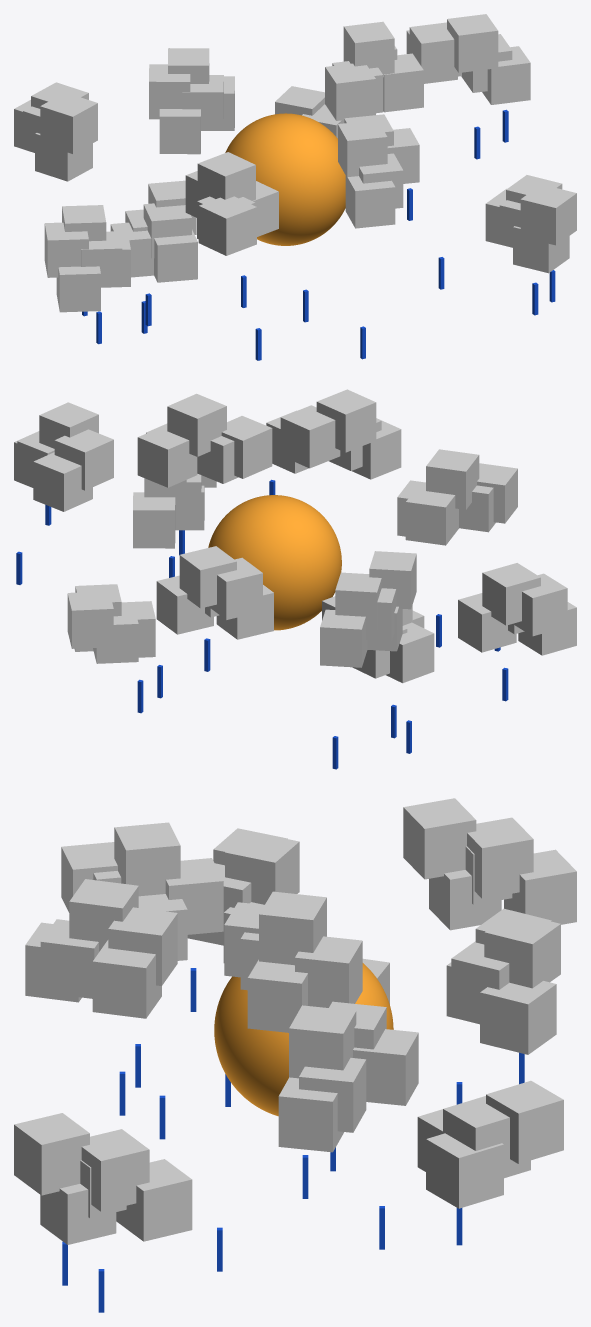
Rendered from sun_rain.glb.
3 renders of one model, top to bottom at view 1: azimuth 30°, elevation 25°; view 2: azimuth 150°, elevation 25°; view 3: azimuth 270°, elevation 25°, orthographic. The views are drawn at different scales.
Parts seen in each view (by area): view 1: Sphere, Cube.016, Cube.033, Cube.023, Cube.049, Cube.028, Cube.004, Cube.014, Cube.035, Cube.041, Cube.002; view 2: Sphere, Cube.023, Cube.028, Cube.033, Cube.049, Cube.004, Cube.035, Cube.016, Cube.002, Cube.014, Cube.041; view 3: Cube.014, Cube.035, Cube.016, Cube.033, Cube.023, Cube.002, Cube.004, Cube.028, Sphere, Cube.049.
Boxes of the visible parts, <box> form: Sphere: <box>225,113,345,245</box>; Cube.016: <box>406,14,530,104</box>; Cube.033: <box>338,114,419,228</box>; Cube.023: <box>325,21,423,120</box>; Cube.049: <box>44,205,130,312</box>; Cube.028: <box>185,152,278,255</box>; Cube.004: <box>149,48,234,154</box>; Cube.014: <box>485,175,576,273</box>; Cube.035: <box>14,82,97,181</box>; Cube.041: <box>110,180,197,282</box>; Cube.002: <box>275,86,344,138</box>; Sphere: <box>208,495,341,630</box>; Cube.023: <box>137,393,272,487</box>; Cube.028: <box>397,449,517,545</box>; Cube.033: <box>266,389,401,479</box>; Cube.049: <box>458,563,576,655</box>; Cube.004: <box>156,546,273,639</box>; Cube.035: <box>320,551,416,667</box>; Cube.016: <box>14,402,113,511</box>; Cube.002: <box>67,584,155,663</box>; Cube.014: <box>133,474,216,548</box>; Cube.041: <box>322,596,434,683</box>; Cube.014: <box>14,1113,192,1244</box>; Cube.035: <box>403,798,576,930</box>; Cube.016: <box>278,1001,418,1152</box>; Cube.033: <box>25,879,177,1018</box>; Cube.023: <box>224,891,362,1032</box>; Cube.002: <box>417,1080,563,1208</box>; Cube.004: <box>446,908,560,1054</box>; Cube.028: <box>61,822,223,960</box>; Sphere: <box>214,963,393,1116</box>; Cube.049: <box>187,828,299,962</box>.
Size of the model in its own units: 28.35 by 13.97 by 20.17.
